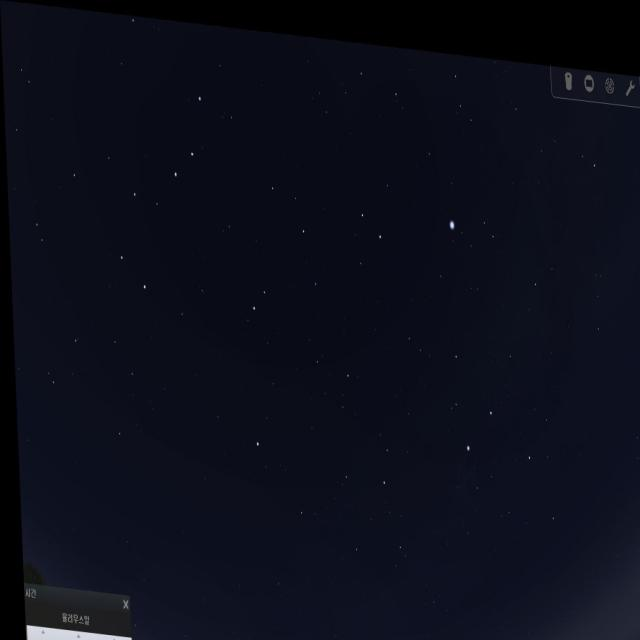cygnus: (434, 243, 550, 460)
lyra: (437, 180, 501, 259)
ursa_major: (113, 68, 213, 296)
